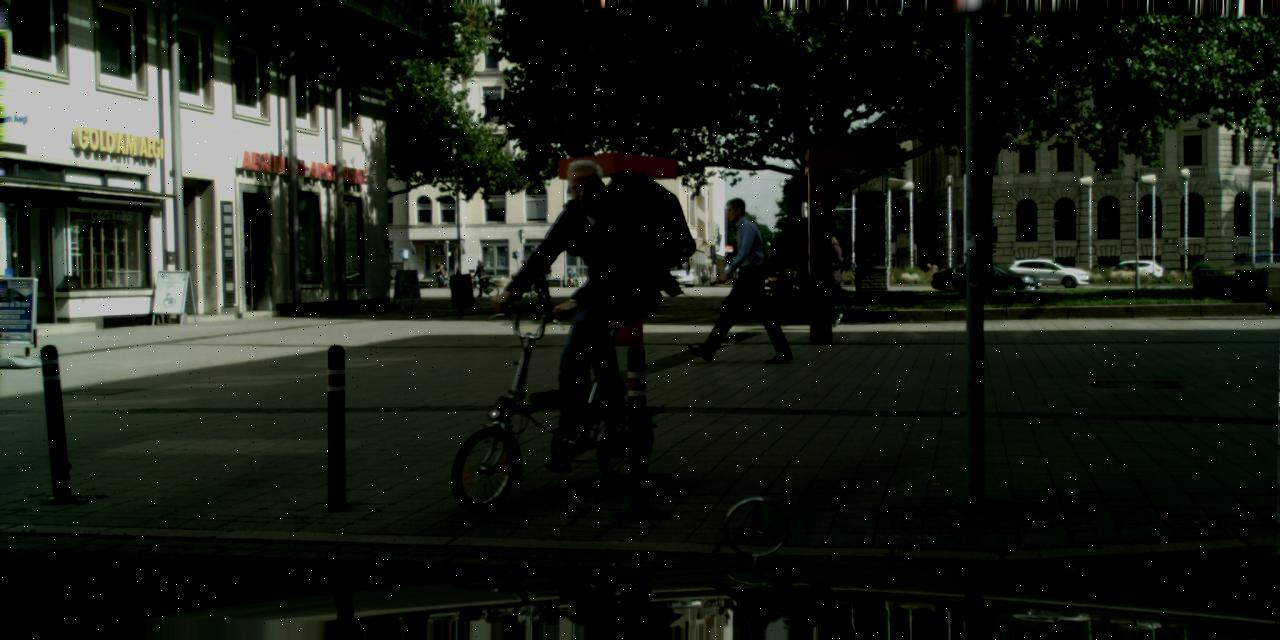ped: (526, 159, 640, 439), (704, 197, 770, 357), (807, 230, 846, 328), (533, 252, 548, 292), (472, 258, 487, 296), (436, 262, 444, 282), (700, 268, 707, 286), (570, 267, 576, 283)
